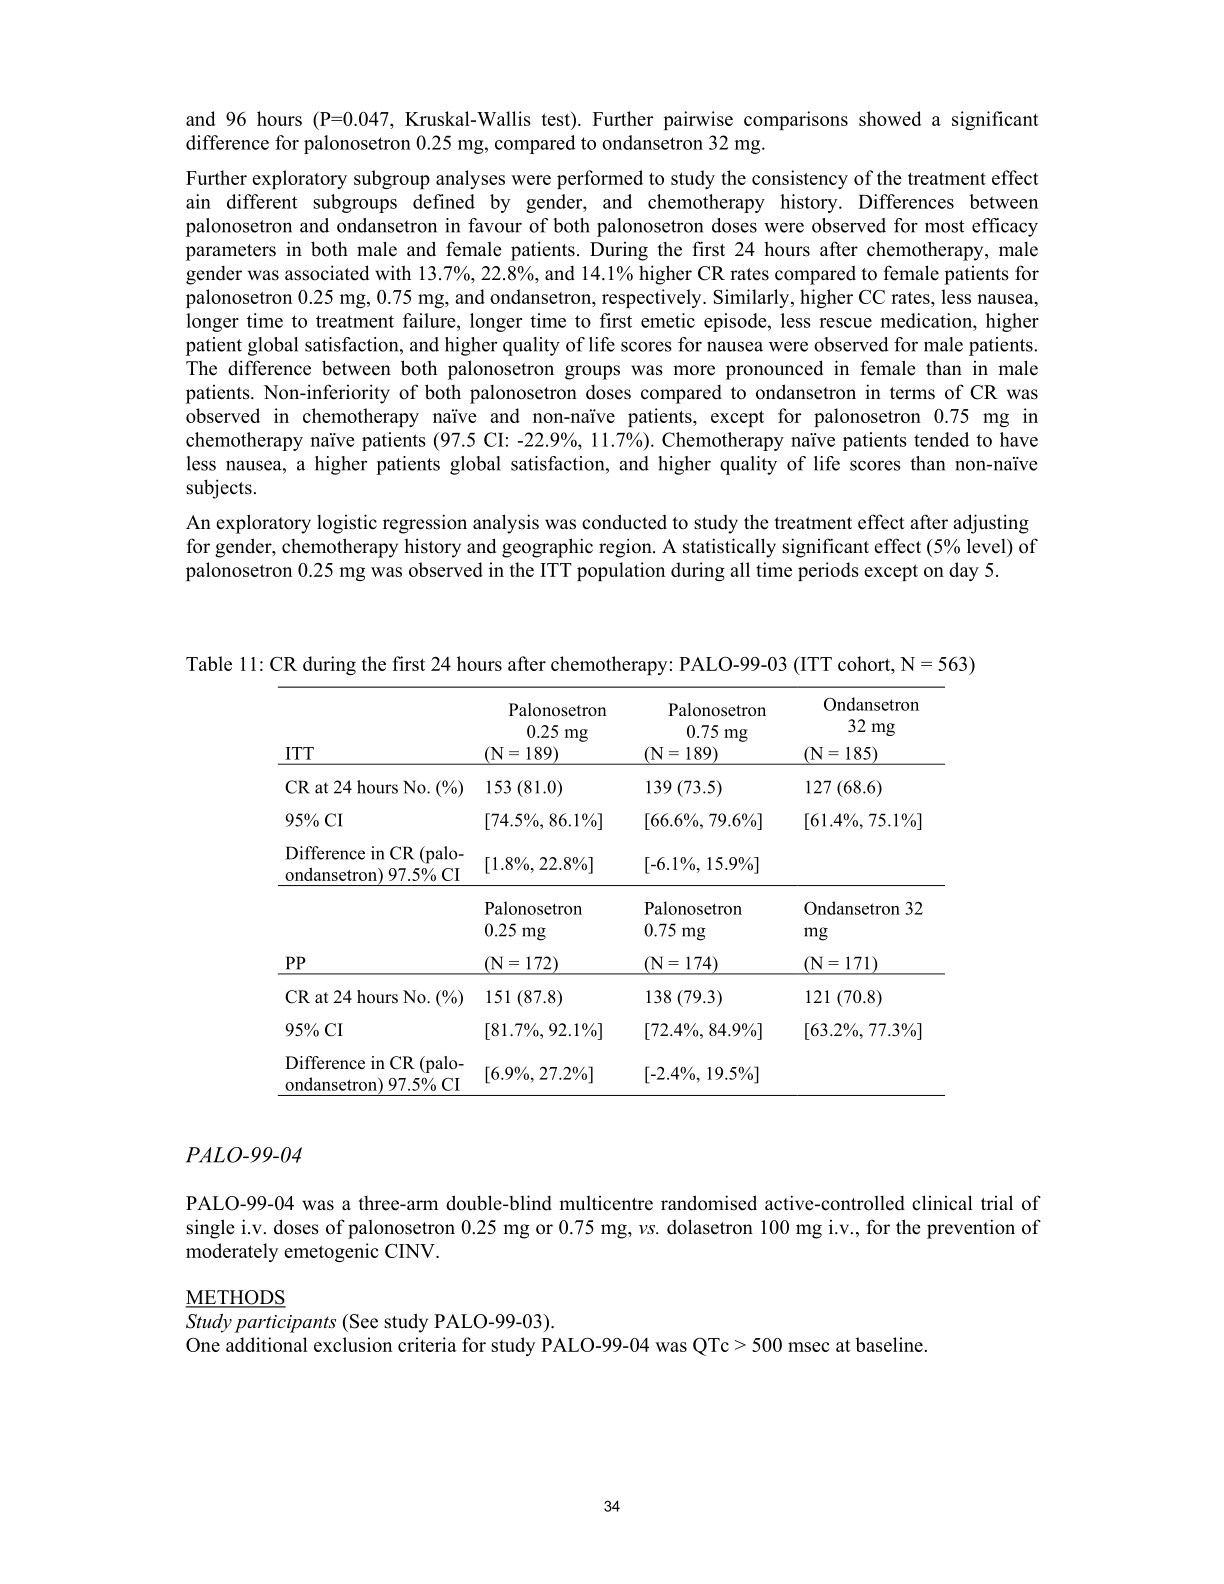partial_lined: (278, 684, 946, 1097)
